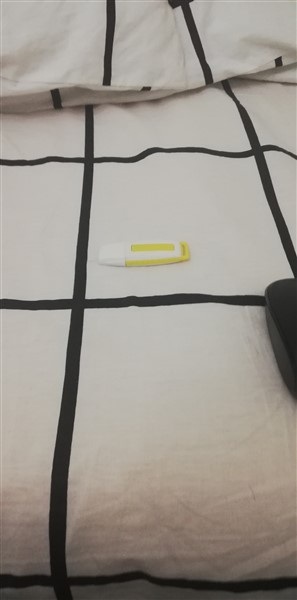flash disk: (93, 237, 193, 269)
